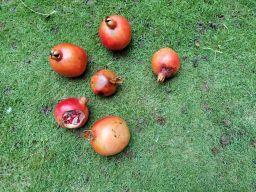pomegranate: (83, 116, 131, 156), (48, 42, 88, 78), (98, 15, 132, 51), (53, 96, 89, 129), (152, 47, 181, 83), (91, 68, 122, 97)
